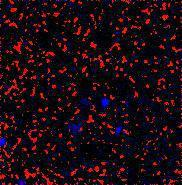star: (0, 127, 29, 157)
